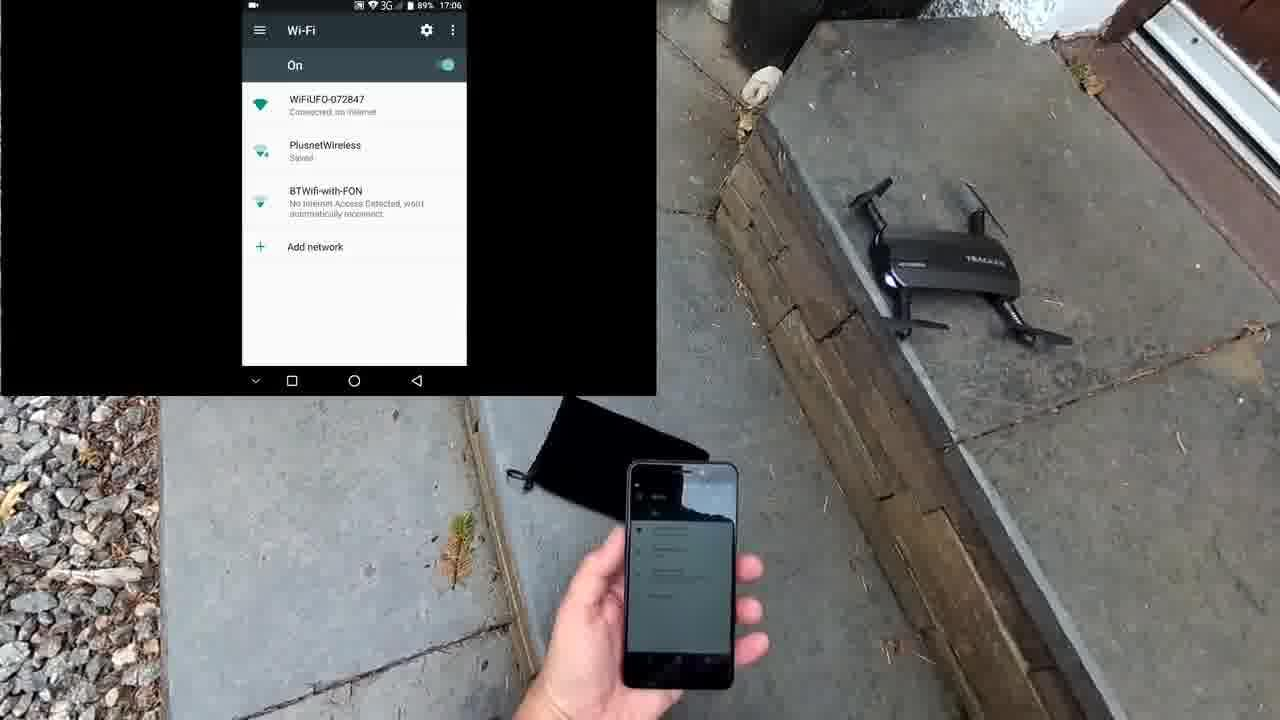drone: (834, 165, 1083, 369)
